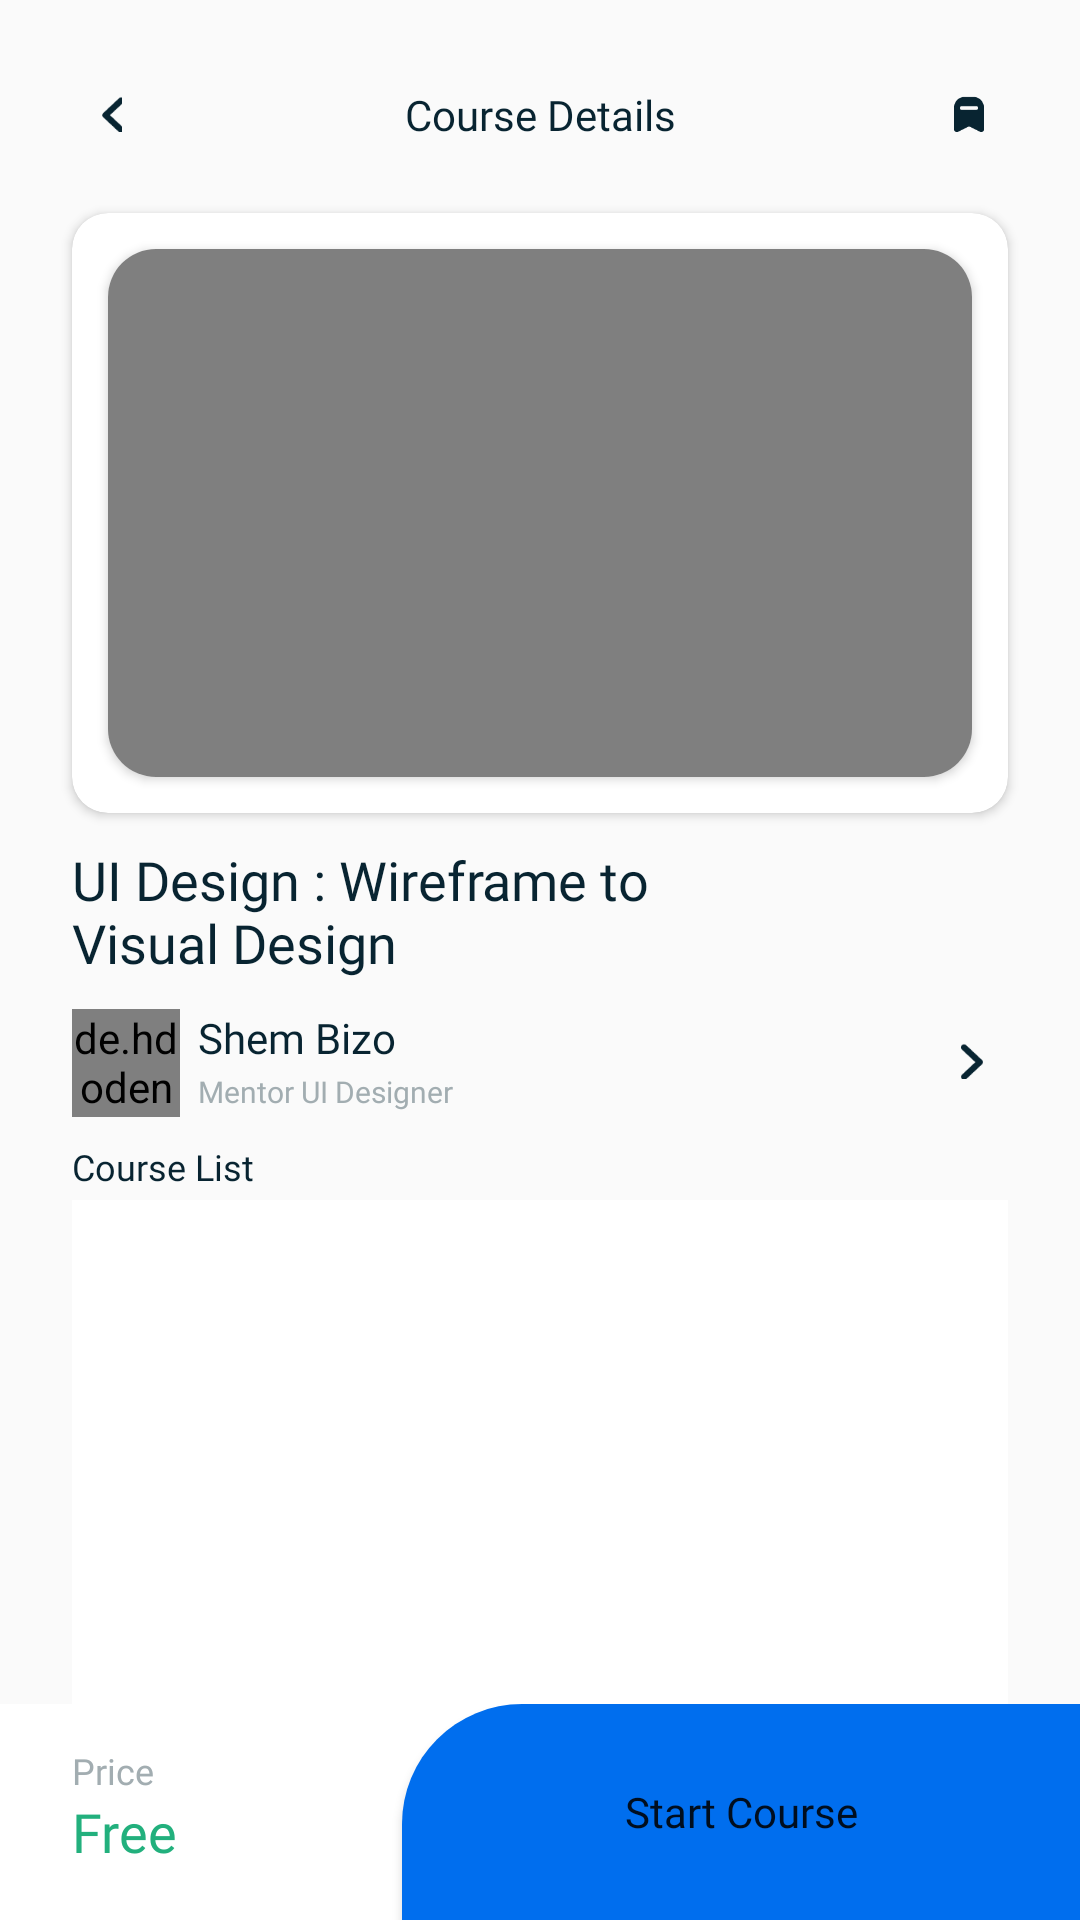

Locate icon controls on the screen. Image size 1080px×1920px, boxes as bbox=[x1, y1, x2, y2].
arrow back: bbox=[102, 97, 122, 132]
arrow go: bbox=[961, 1044, 983, 1079]
bookmark: bbox=[954, 97, 984, 132]
